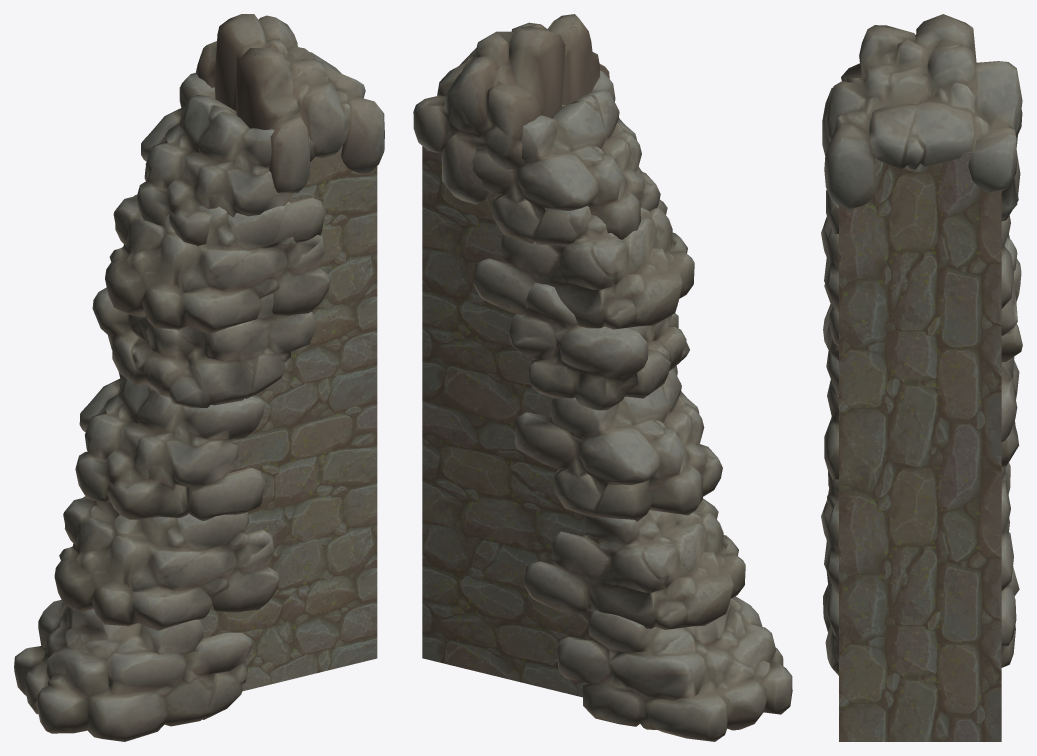
File: MSH_fwOF_Ruins_Wall_End_01.fbx
3 views of the same model, side by side, from view 1: azimuth 30°, elevation 25°; view 2: azimuth 150°, elevation 25°; view 3: azimuth 270°, elevation 25° (orthographic). The views are drawn at different scales.
Visible parts, largest first — view 1: MSH_fwOF_Ruins_Wall_End_01_LOD0, MSH_fwOF_Ruins_Wall_End_01_Base; view 2: MSH_fwOF_Ruins_Wall_End_01_LOD0, MSH_fwOF_Ruins_Wall_End_01_Base; view 3: MSH_fwOF_Ruins_Wall_End_01_Base, MSH_fwOF_Ruins_Wall_End_01_LOD0.
Part boxes in pixels (x1,y1,x2,y2): MSH_fwOF_Ruins_Wall_End_01_LOD0: (14,14,384,741); MSH_fwOF_Ruins_Wall_End_01_Base: (184,98,377,690); MSH_fwOF_Ruins_Wall_End_01_LOD0: (413,14,792,741); MSH_fwOF_Ruins_Wall_End_01_Base: (422,104,614,697); MSH_fwOF_Ruins_Wall_End_01_Base: (839,151,1001,741); MSH_fwOF_Ruins_Wall_End_01_LOD0: (821,14,1022,675).
Size of what is drawn, in the model's own units: 2.47 by 4.74 by 1.24.
